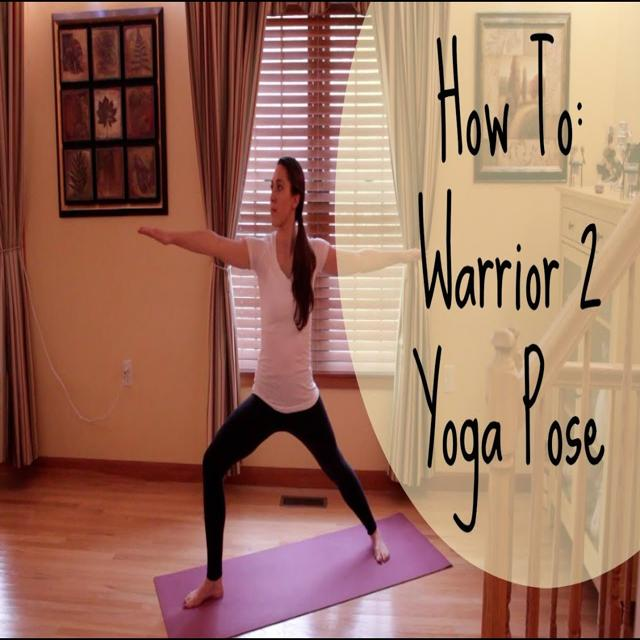Warrior_II: (134, 153, 426, 611)
